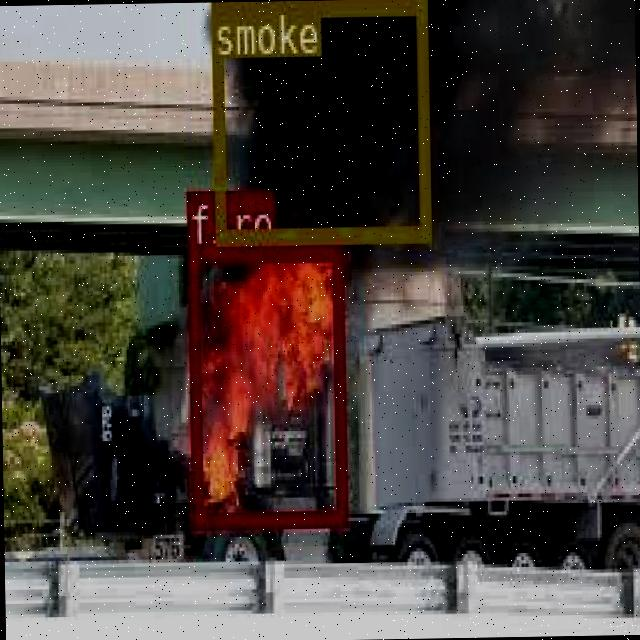fire: (186, 242, 344, 527)
smoke: (209, 0, 427, 243)
